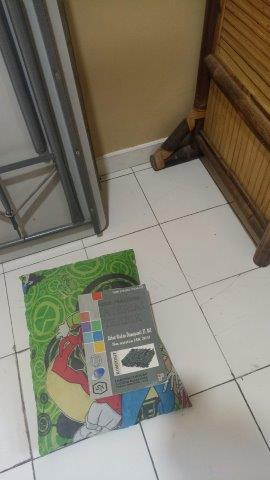kertas: (78, 292, 166, 388)
